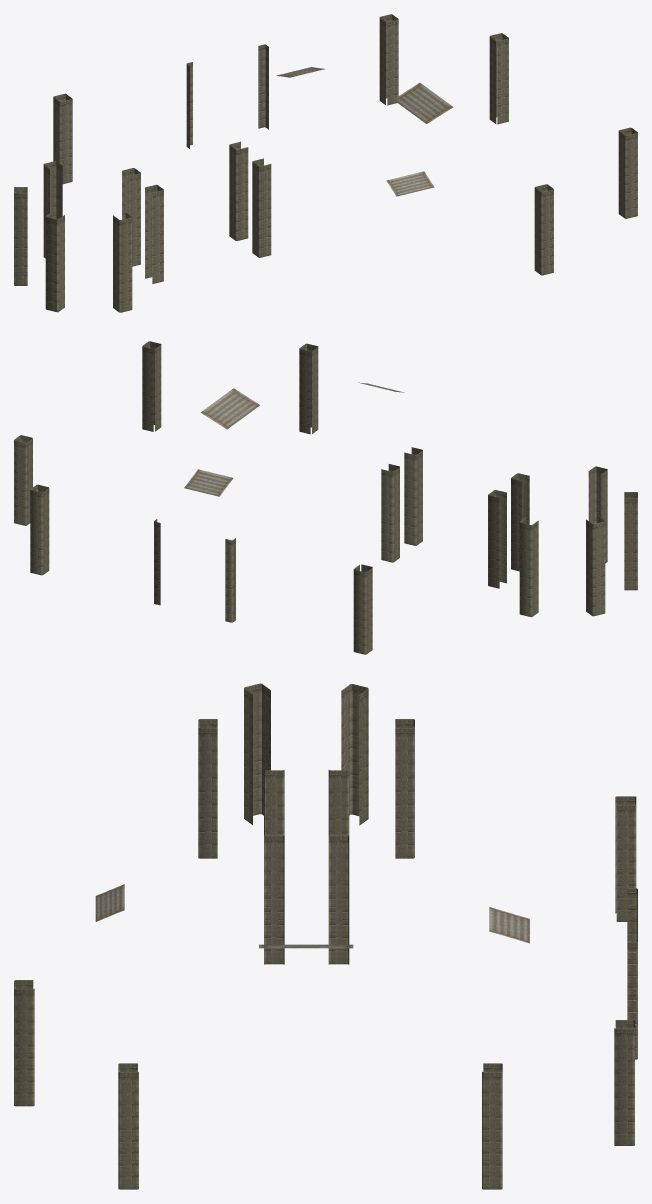
File: jieti.FBX
3 views of the same model, one above another, from view 1: azimuth 30°, elevation 25°; view 2: azimuth 150°, elevation 25°; view 3: azimuth 270°, elevation 25° (orthographic). The views are drawn at different scales.
Parts seen in each view (by area): view 1: Object19; view 2: Object19; view 3: Object19.
Part boxes in pixels (left/top/right/bottom): Object19: left=14, top=14, right=637, bottom=312; Object19: left=14, top=341, right=637, bottom=654; Object19: left=14, top=683, right=637, bottom=1189.
Size of the model in its own units: 6703 by 1244 by 4742.
